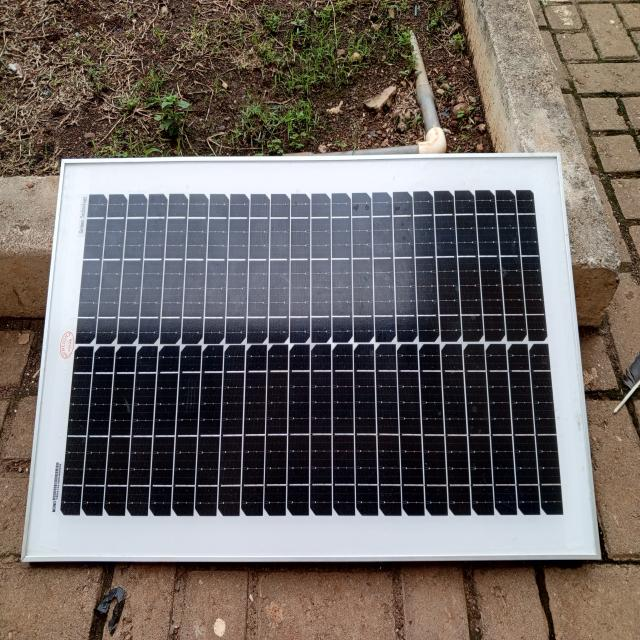Clean: (67, 174, 570, 554)
